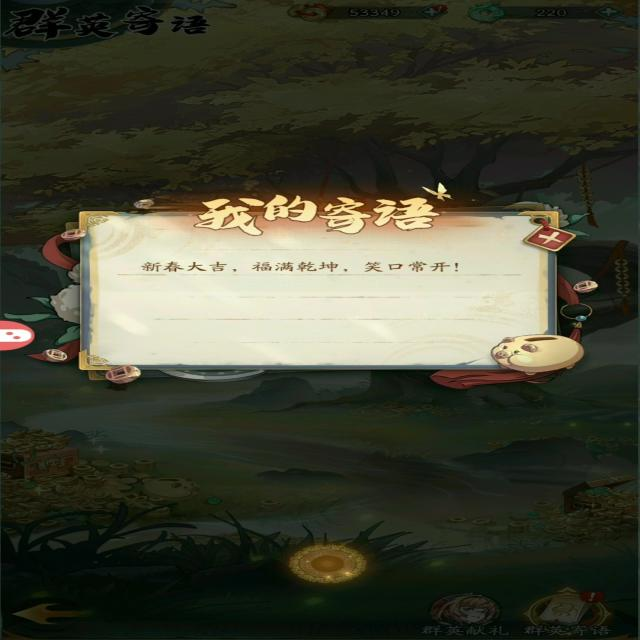operation-close: (519, 225, 565, 259)
